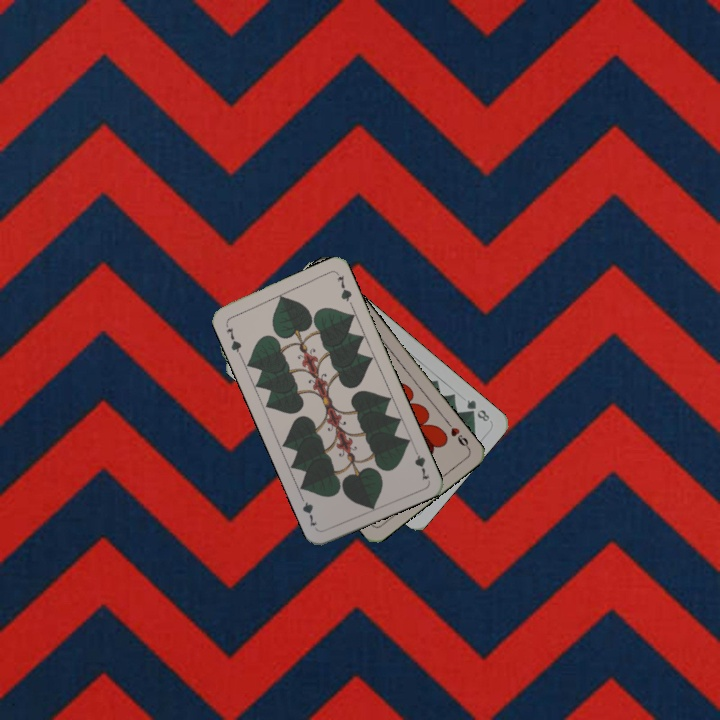G7: (409, 443, 432, 483), (222, 319, 244, 358)
G8: (462, 395, 492, 424)
H9: (442, 417, 472, 452)
